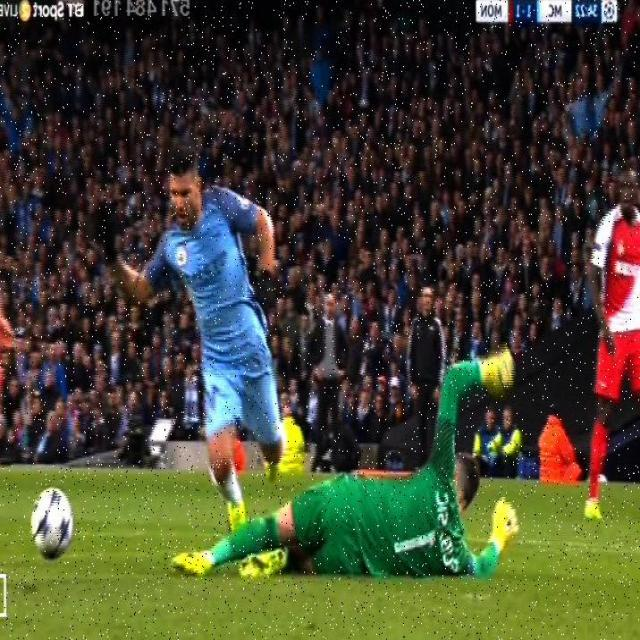fall: (180, 352, 521, 581)
